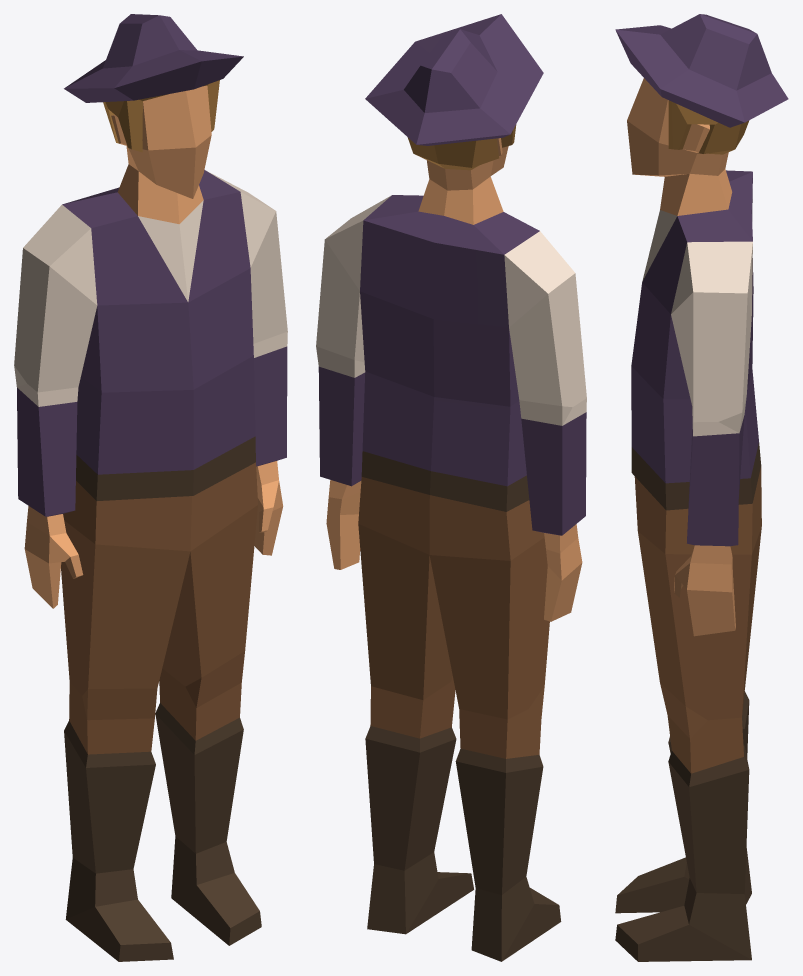
File: man-lad-rival.glb
The picture shows the model from 3 angles, left to right: view 1: azimuth 30°, elevation 25°; view 2: azimuth 150°, elevation 25°; view 3: azimuth 270°, elevation 25°; orthographic projection.
Parts seen in each view (by area): view 1: man-lad-rival; view 2: man-lad-rival; view 3: man-lad-rival.
Part boxes in pixels (x1=…): man-lad-rival: x1=14, y1=14, x2=287, y2=961; man-lad-rival: x1=316, y1=14, x2=586, y2=961; man-lad-rival: x1=615, y1=14, x2=788, y2=961.
Bounding box in the file's own units: 0.5438 × 1.88 × 0.3245.
Materials: 1 (1 with a texture image).
